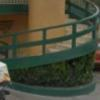stairs: (31, 13, 95, 58)
